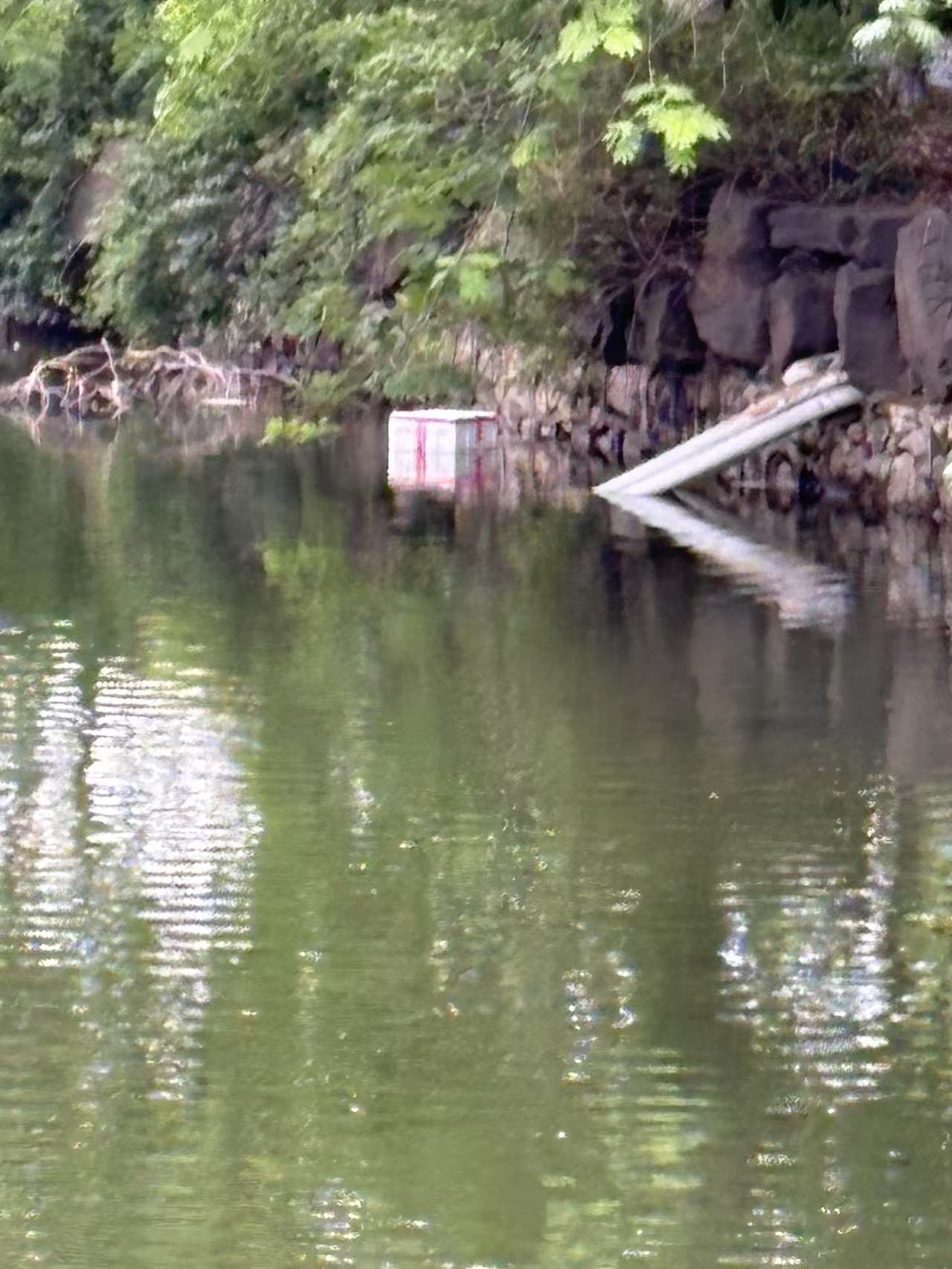Plastic wastes: (383, 401, 506, 473)
